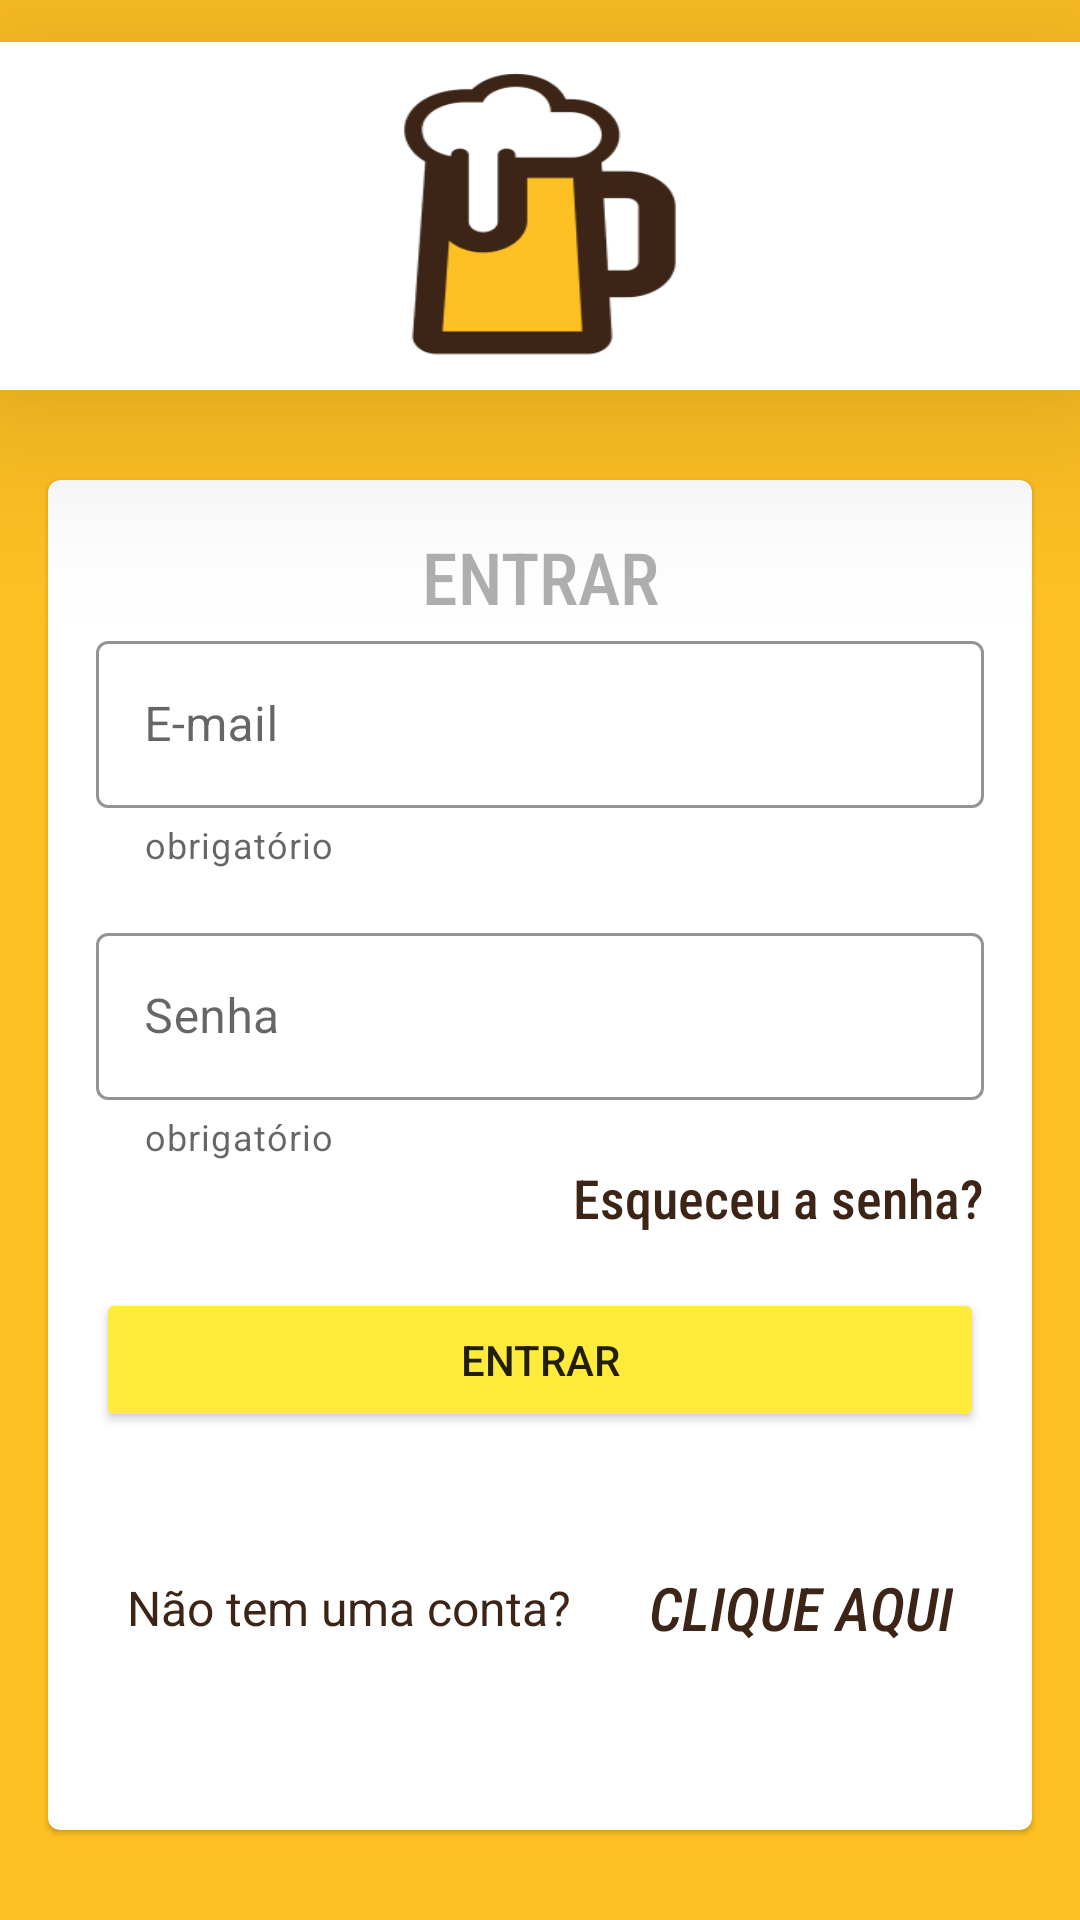

Named icons in this screenshot (1080x1920) and their centers, point (x, y):
beermug: point (540, 214)
